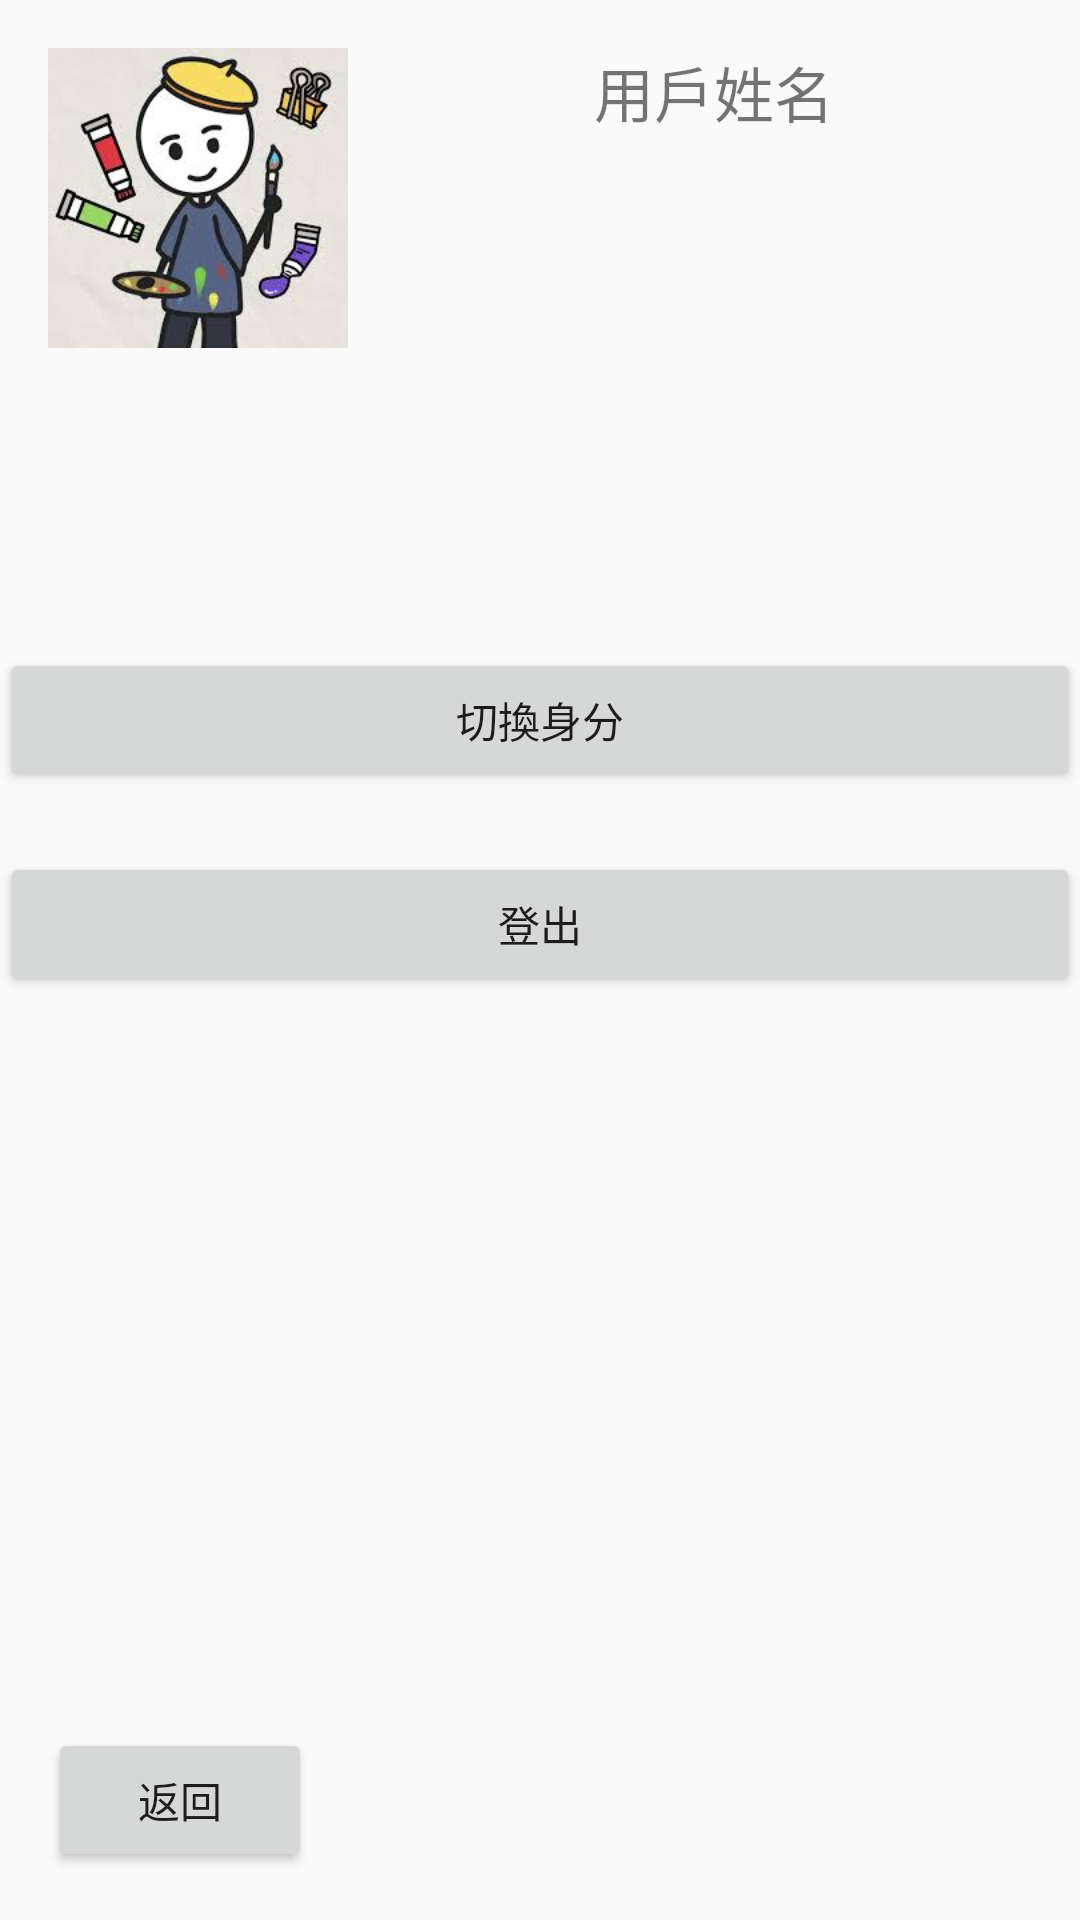

Screen size 1080x1920. Icon name, then its center in pixels as [x,y]:
headpicture: [198,198]
